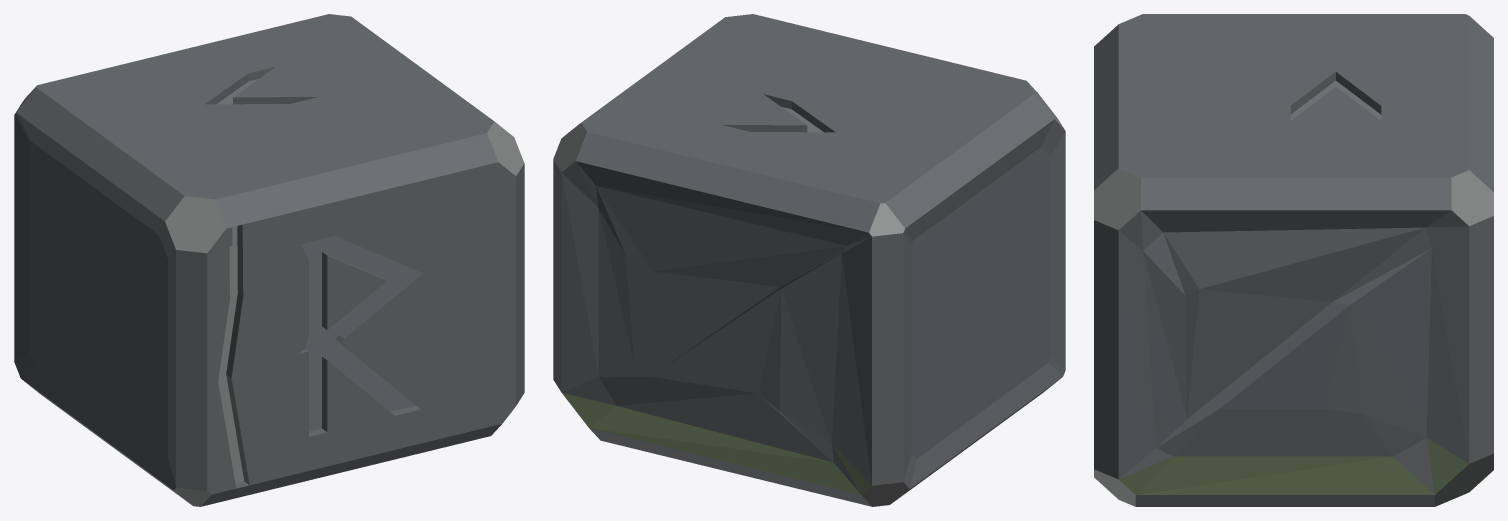
The model's file is stage4_glowing_rune_stone.glb.
3 renders of one model, left to right at view 1: azimuth 30°, elevation 25°; view 2: azimuth 150°, elevation 25°; view 3: azimuth 270°, elevation 25°, orthographic. The views are drawn at different scales.
Visible parts, largest first — view 1: stone; view 2: stone; view 3: stone.
Part boxes in pixels (left/top/right/bottom): stone: left=14, top=14, right=524, bottom=506; stone: left=553, top=14, right=1065, bottom=506; stone: left=1094, top=14, right=1493, bottom=506.
Bounding box in the file's own units: 0.6 × 0.5 × 0.55.
